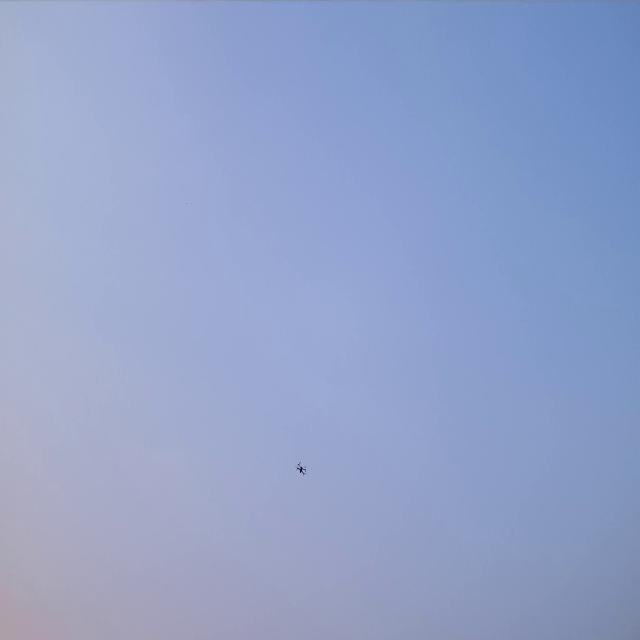UAV: (294, 460, 307, 477)
